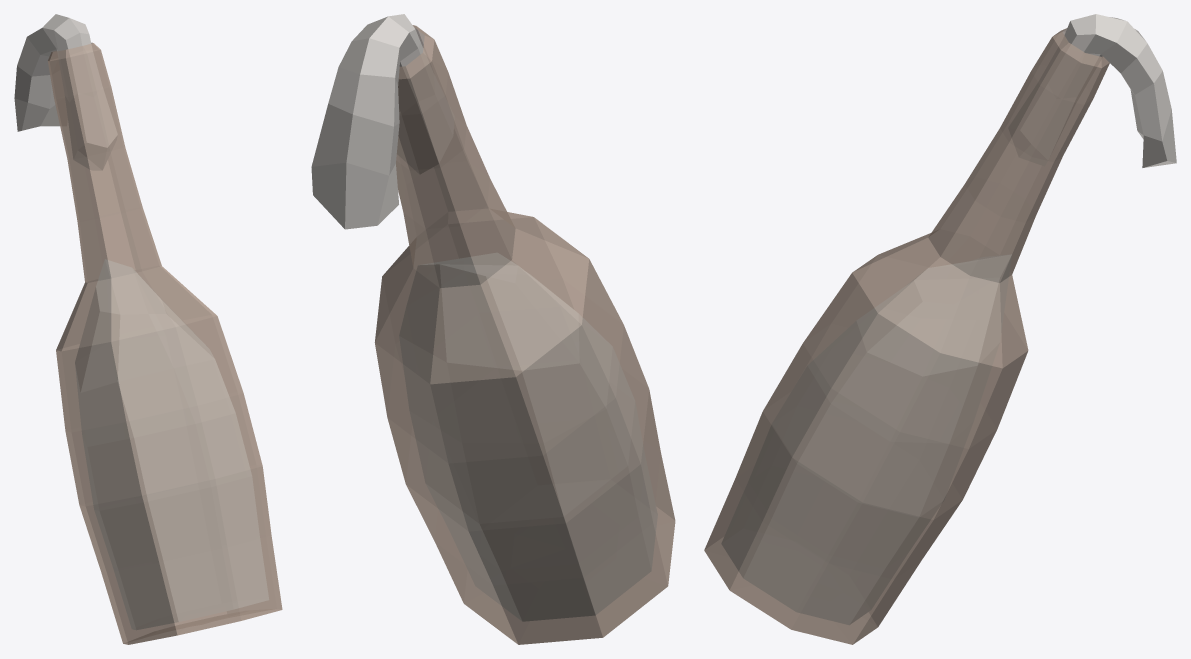
The model's file is molotov.fbx.
The picture shows the model from 3 angles, left to right: view 1: azimuth 30°, elevation 25°; view 2: azimuth 150°, elevation 25°; view 3: azimuth 270°, elevation 25°; orthographic projection. The views are drawn at different scales.
Parts seen in each view (by area): view 1: bottle, liquid, cloth; view 2: bottle, liquid, cloth; view 3: bottle, liquid, cloth.
Boxes of the visible parts, box(x1,y1,x2,y2) form: bottle: box(48, 42, 282, 644); liquid: box(75, 259, 268, 629); cloth: box(14, 14, 117, 170); bottle: box(374, 25, 675, 644); liquid: box(399, 253, 657, 621); cloth: box(311, 14, 454, 229); bottle: box(704, 28, 1109, 644); liquid: box(721, 254, 1011, 624); cloth: box(1008, 14, 1176, 167).
Size of the model in its own units: 1.26 by 3.85 by 2.68.
